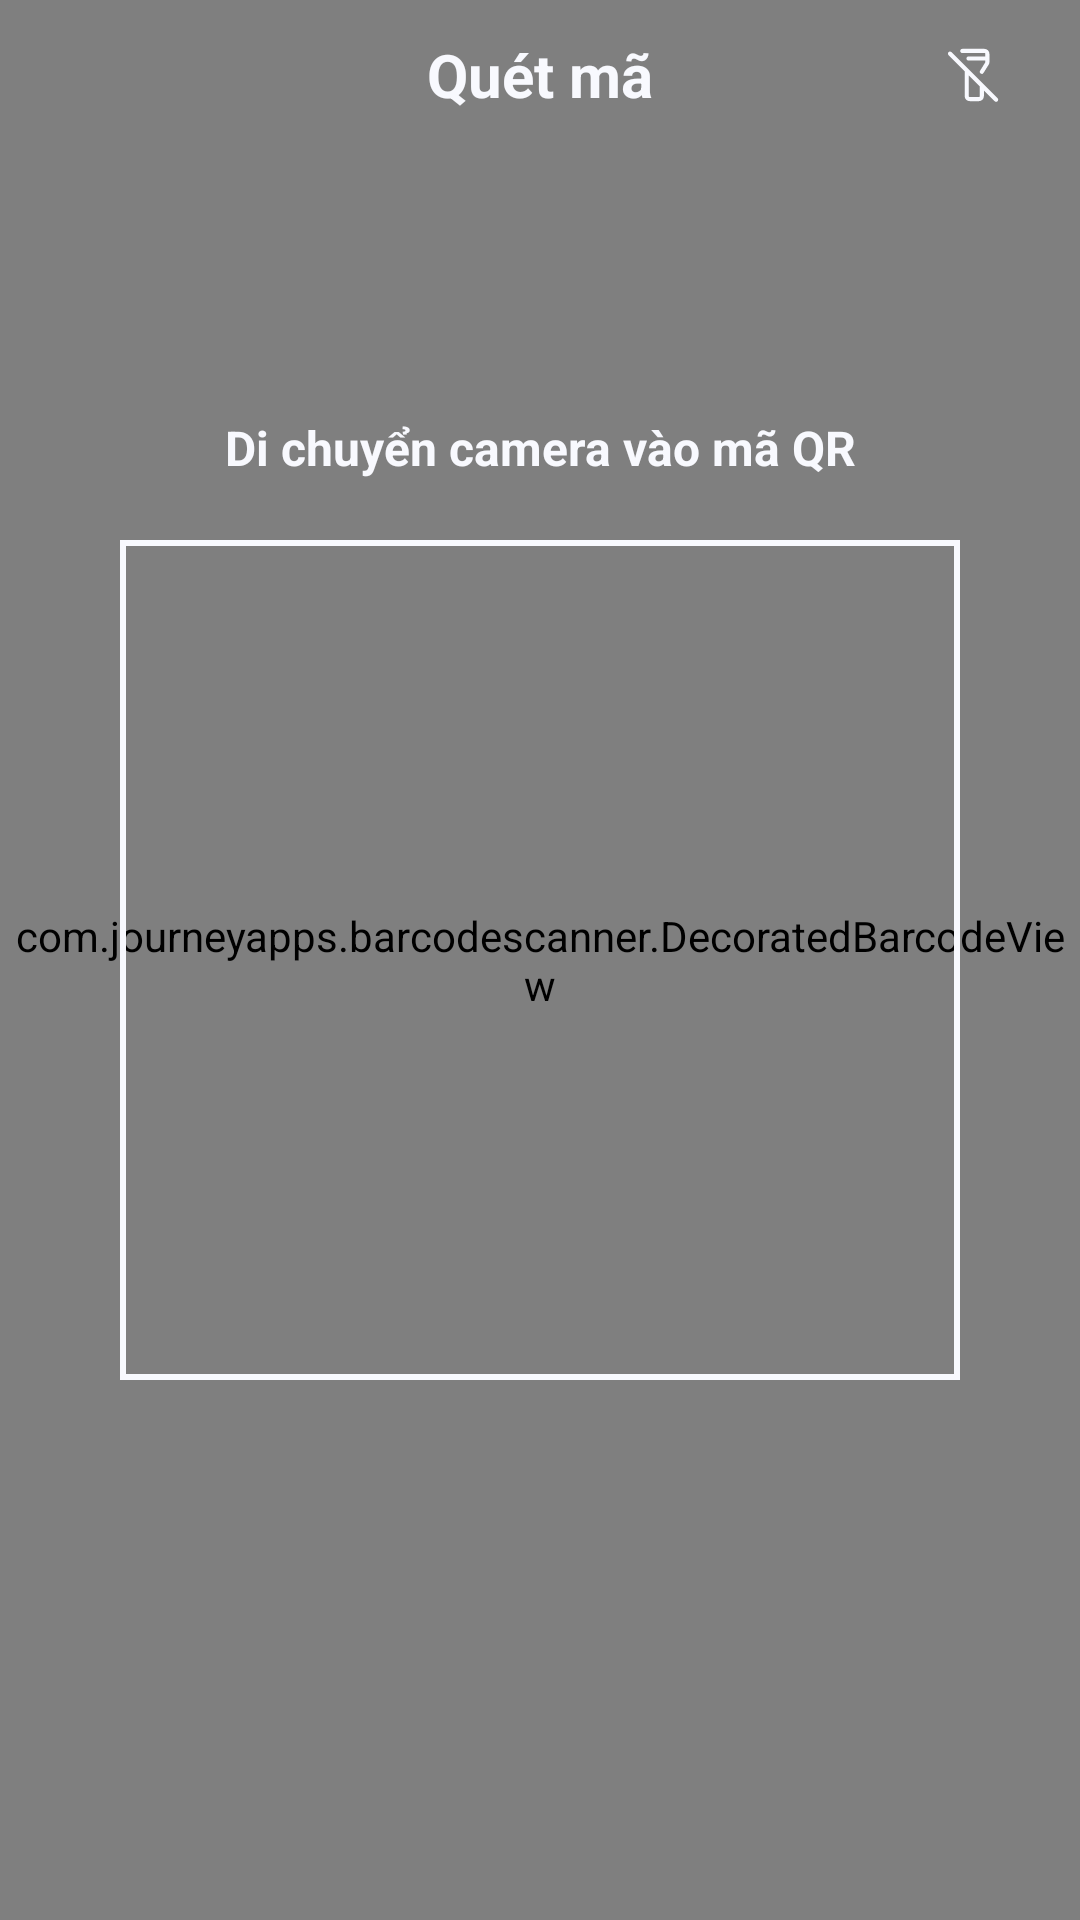

Icons on this 1080px x 1920px Android screen, each with the point to tap as [x,y]:
Đèn Flash: [973,75]
